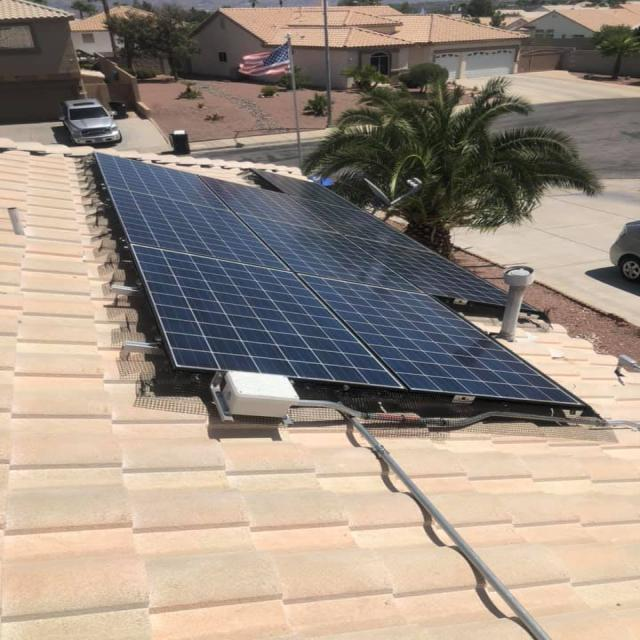clean-solar-panel: (95, 154, 590, 415)
